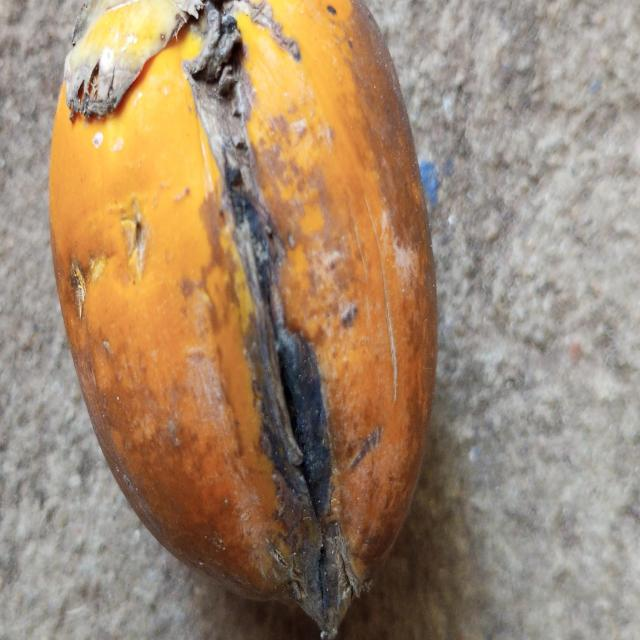damaged: (50, 0, 436, 637)
